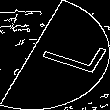L_NW: (15, 30, 95, 80)
